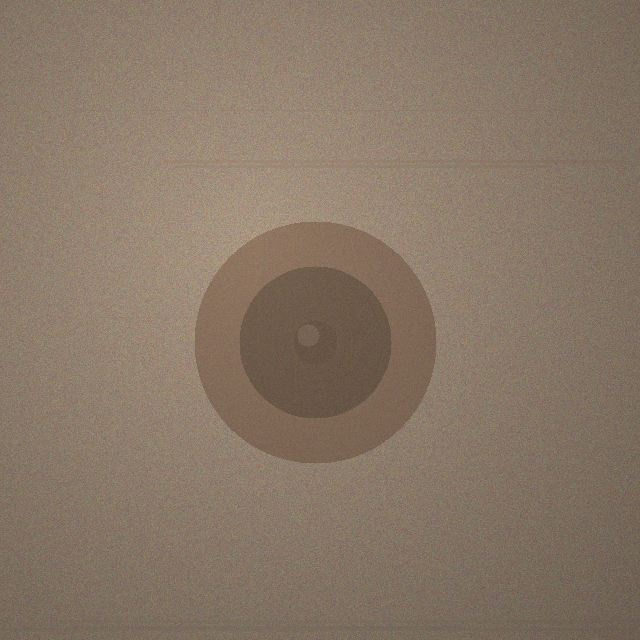good: (194, 221, 436, 463)
